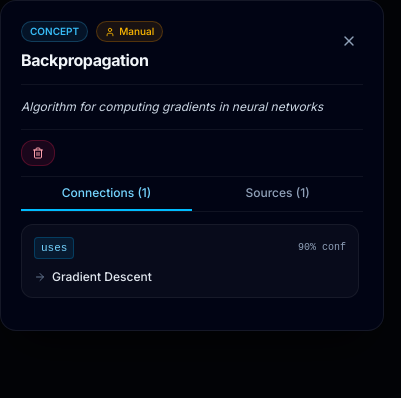
Test: KnowledgeExplorer (§5.7, §14.2) › renders provenance source chunks when switching to Sources tab
The image size is (401, 398).
Step 1. Click the button "Sources (1)" → (278, 198), box [192, 184, 363, 210]
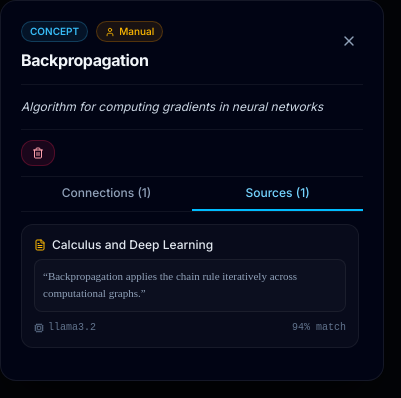
Result: the element with test id "provenance-source-chunk-1" is shown at [21, 224, 359, 348]
Result: the text "Calculus and Deep Learning" is shown at [52, 236, 213, 252]
Result: the text "chain rule iteratively" is shown at [43, 270, 297, 299]
